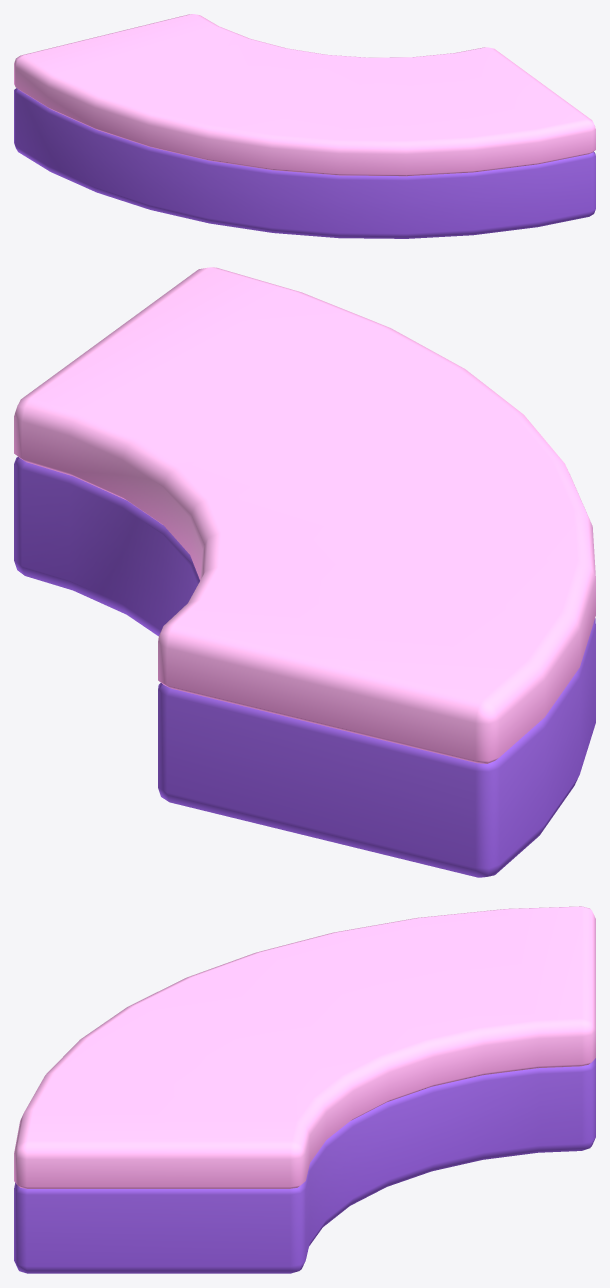
The model's file is Platform_16.glb.
3 renders of one model, top to bottom at view 1: azimuth 30°, elevation 25°; view 2: azimuth 150°, elevation 25°; view 3: azimuth 270°, elevation 25°, orthographic. The views are drawn at different scales.
Parts seen in each view (by area): view 1: Platform_16; view 2: Platform_16; view 3: Platform_16.
Boxes of the visible parts, left/top/right/bottom form: Platform_16: left=14, top=14, right=595, bottom=238; Platform_16: left=14, top=267, right=595, bottom=877; Platform_16: left=14, top=906, right=595, bottom=1273.
Size of the model in its own units: 11.98 by 3 by 11.98.
1 material, 1 textured.
